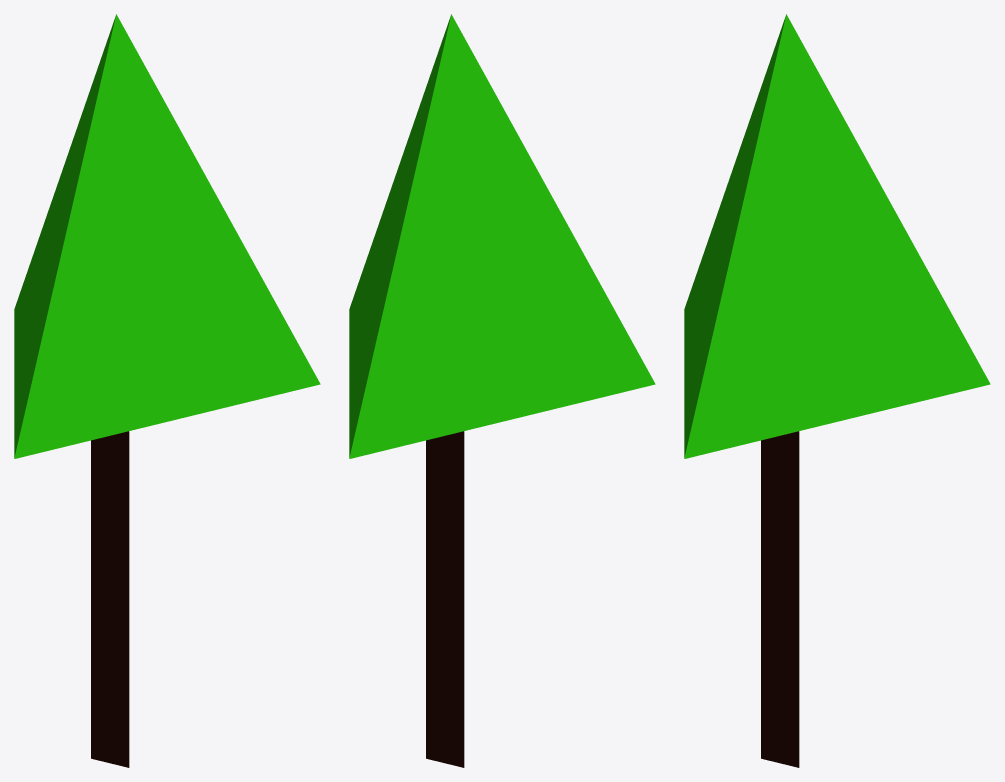
The model's file is arvore3.fbx.
3 views of the same model, side by side, from view 1: azimuth 30°, elevation 25°; view 2: azimuth 150°, elevation 25°; view 3: azimuth 270°, elevation 25° (orthographic).
Visible parts, largest first — view 1: Cone; view 2: Cone; view 3: Cone.
Boxes of the visible parts, x1,y1,x2,y2 form: Cone: (14,14,320,767); Cone: (349,14,655,767); Cone: (684,14,990,767).
Size of the model in its own units: 173 by 402 by 150.
